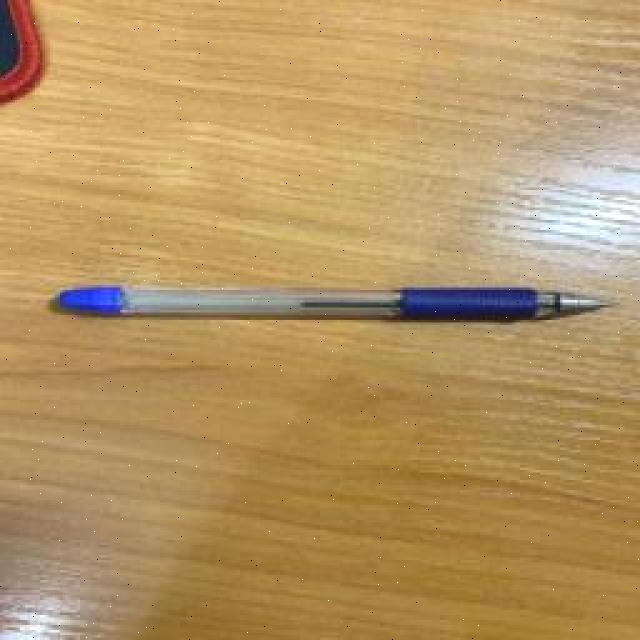pen: (52, 288, 618, 318)
